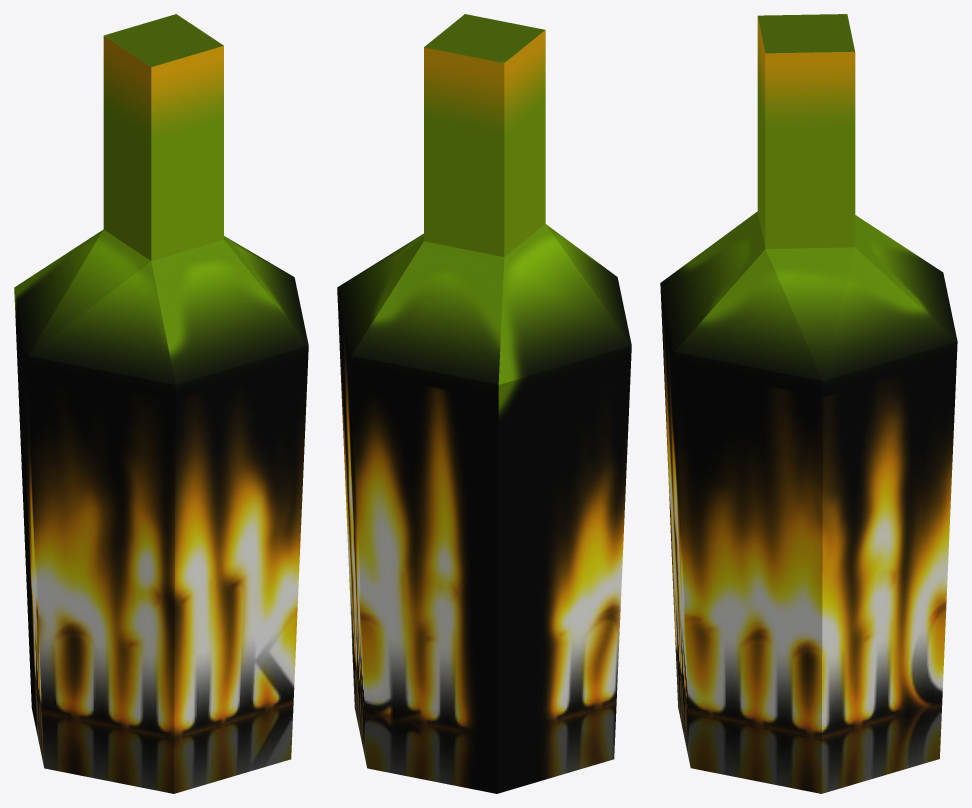
The model's file is miniBottle.dae.
The picture shows the model from 3 angles, left to right: view 1: azimuth 30°, elevation 25°; view 2: azimuth 150°, elevation 25°; view 3: azimuth 270°, elevation 25°; orthographic projection.
Parts seen in each view (by area): view 1: bottle; view 2: bottle; view 3: bottle.
Part boxes in pixels (x1,y1,x2,y2): bottle: [14, 14, 308, 793]; bottle: [337, 14, 631, 793]; bottle: [660, 14, 957, 793].
Bounding box in the file's own units: 31.78 × 75.13 × 28.91.
1 material, 1 textured.
